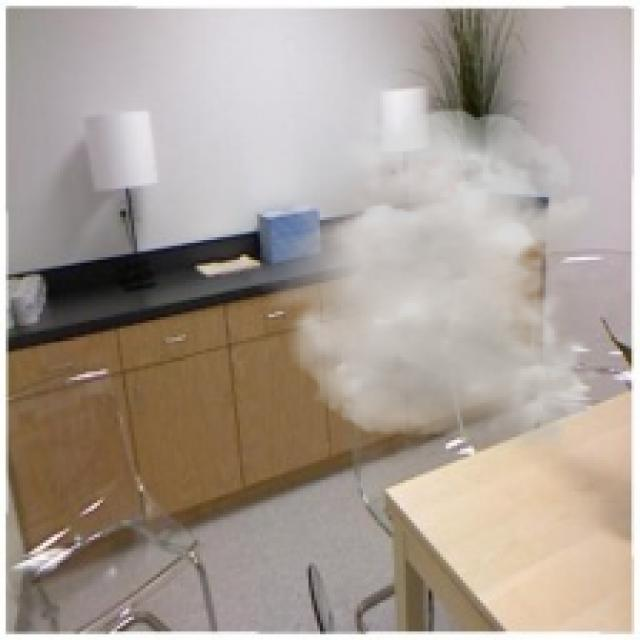smoke: (243, 109, 603, 452)
